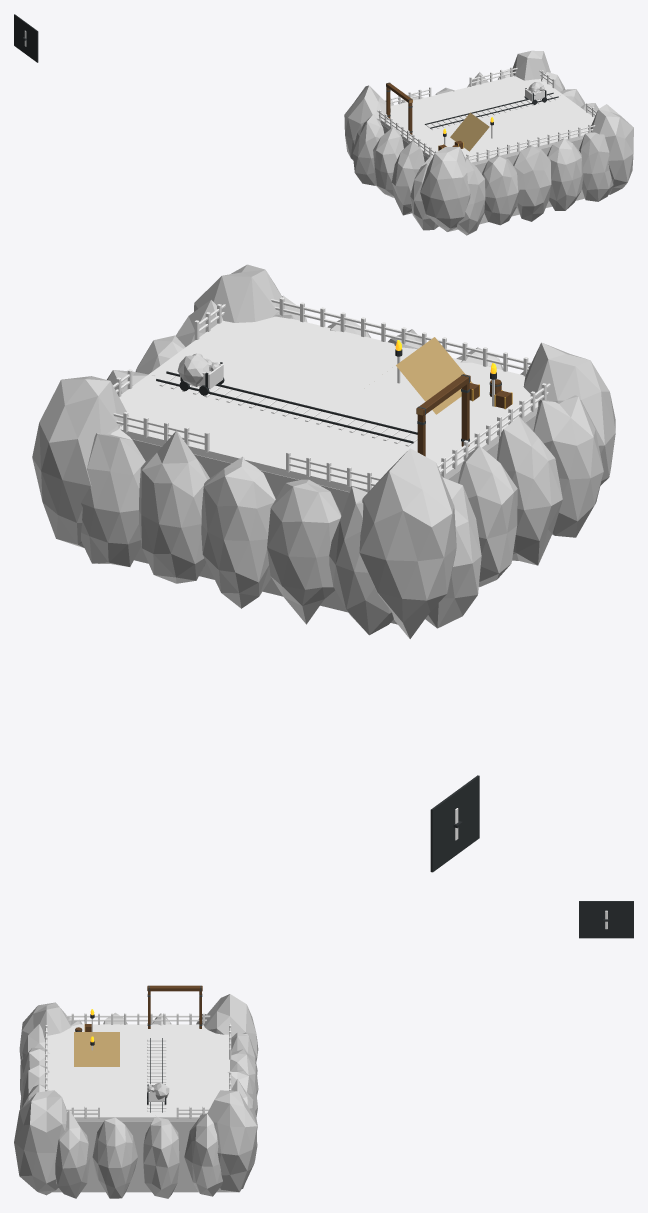
Rendered from entrance_camp.glb.
The picture shows the model from 3 angles, top to bottom: view 1: azimuth 30°, elevation 25°; view 2: azimuth 150°, elevation 25°; view 3: azimuth 270°, elevation 25°; orthographic projection. The views are drawn at different scales.
Visible parts, largest first — view 1: entrance_camp_Mine_Rock, entrance_camp_Mine_Earth, entrance_camp_Mine_Wood, entrance_camp_Mine_Metal, entrance_camp_Mine_WoodLight, entrance_camp_Mine_Canvas, entrance_camp_G04_wood.002; view 2: entrance_camp_Mine_Rock, entrance_camp_Mine_Earth, entrance_camp_Mine_Wood, entrance_camp_Mine_Metal, entrance_camp_Mine_WoodLight, entrance_camp_Mine_Canvas, entrance_camp_G04_wood.002; view 3: entrance_camp_Mine_Rock, entrance_camp_Mine_Earth, entrance_camp_Mine_Metal, entrance_camp_Mine_Wood, entrance_camp_Mine_Canvas, entrance_camp_Mine_WoodLight, entrance_camp_G04_wood.002.
Boxes of the visible parts, box(x1,y1,x2,y2) form: entrance_camp_Mine_Rock: box(344, 50, 633, 235); entrance_camp_Mine_Earth: box(380, 76, 594, 165); entrance_camp_Mine_Wood: box(24, 30, 594, 161); entrance_camp_Mine_Metal: box(14, 14, 558, 136); entrance_camp_Mine_WoodLight: box(377, 68, 596, 160); entrance_camp_Mine_Canvas: box(450, 112, 489, 151); entrance_camp_G04_wood.002: box(386, 82, 412, 134); entrance_camp_Mine_Rock: box(32, 264, 615, 638); entrance_camp_Mine_Earth: box(119, 316, 538, 492); entrance_camp_Mine_Wood: box(116, 297, 546, 840); entrance_camp_Mine_Metal: box(156, 349, 496, 872); entrance_camp_Mine_WoodLight: box(113, 299, 550, 486); entrance_camp_Mine_Canvas: box(396, 337, 472, 414); entrance_camp_G04_wood.002: box(416, 374, 470, 456); entrance_camp_Mine_Rock: box(14, 994, 258, 1198); entrance_camp_Mine_Earth: box(47, 1024, 229, 1121); entrance_camp_Mine_Metal: box(90, 901, 633, 1112); entrance_camp_Mine_Wood: box(45, 910, 607, 1118); entrance_camp_Mine_Canvas: box(74, 1032, 119, 1066); entrance_camp_Mine_WoodLight: box(45, 1015, 230, 1114); entrance_camp_G04_wood.002: box(147, 985, 202, 1028).
Size of the model in its own units: 55.09 by 15.15 by 67.54.
